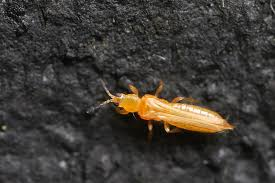Thrips: (80, 71, 239, 141)
